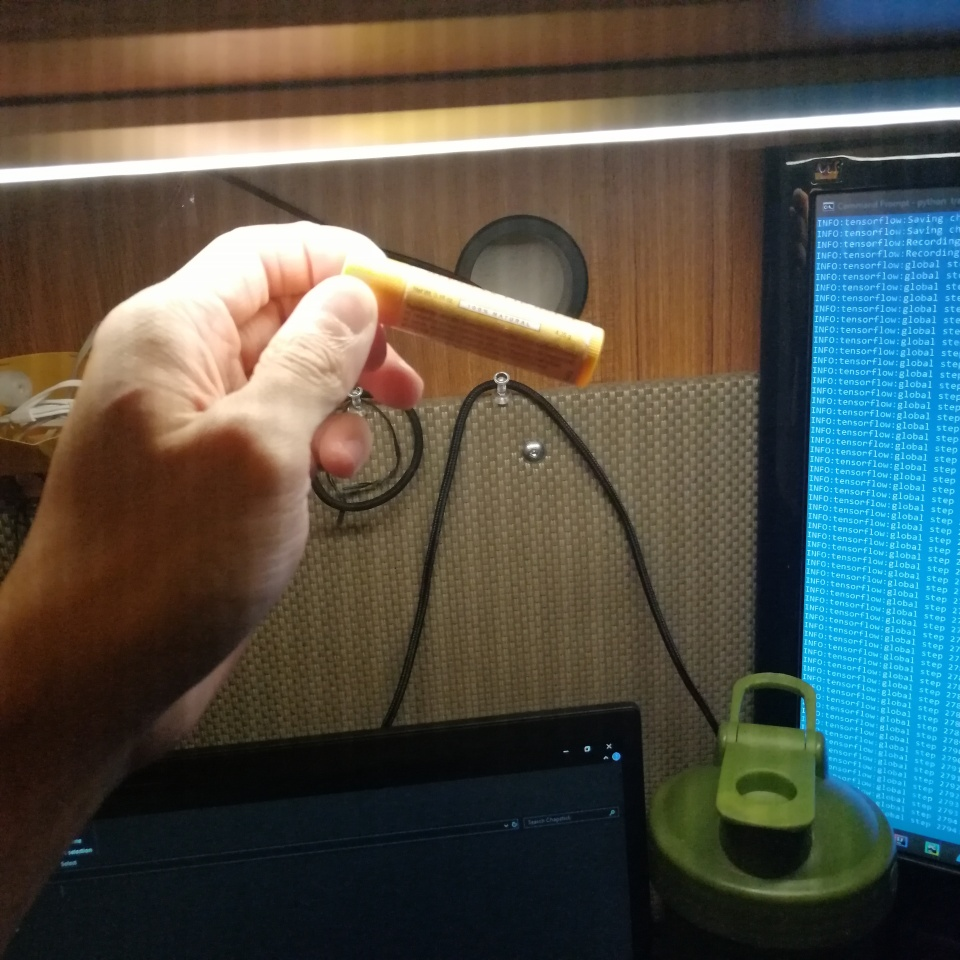chapstick: (339, 247, 605, 388)
